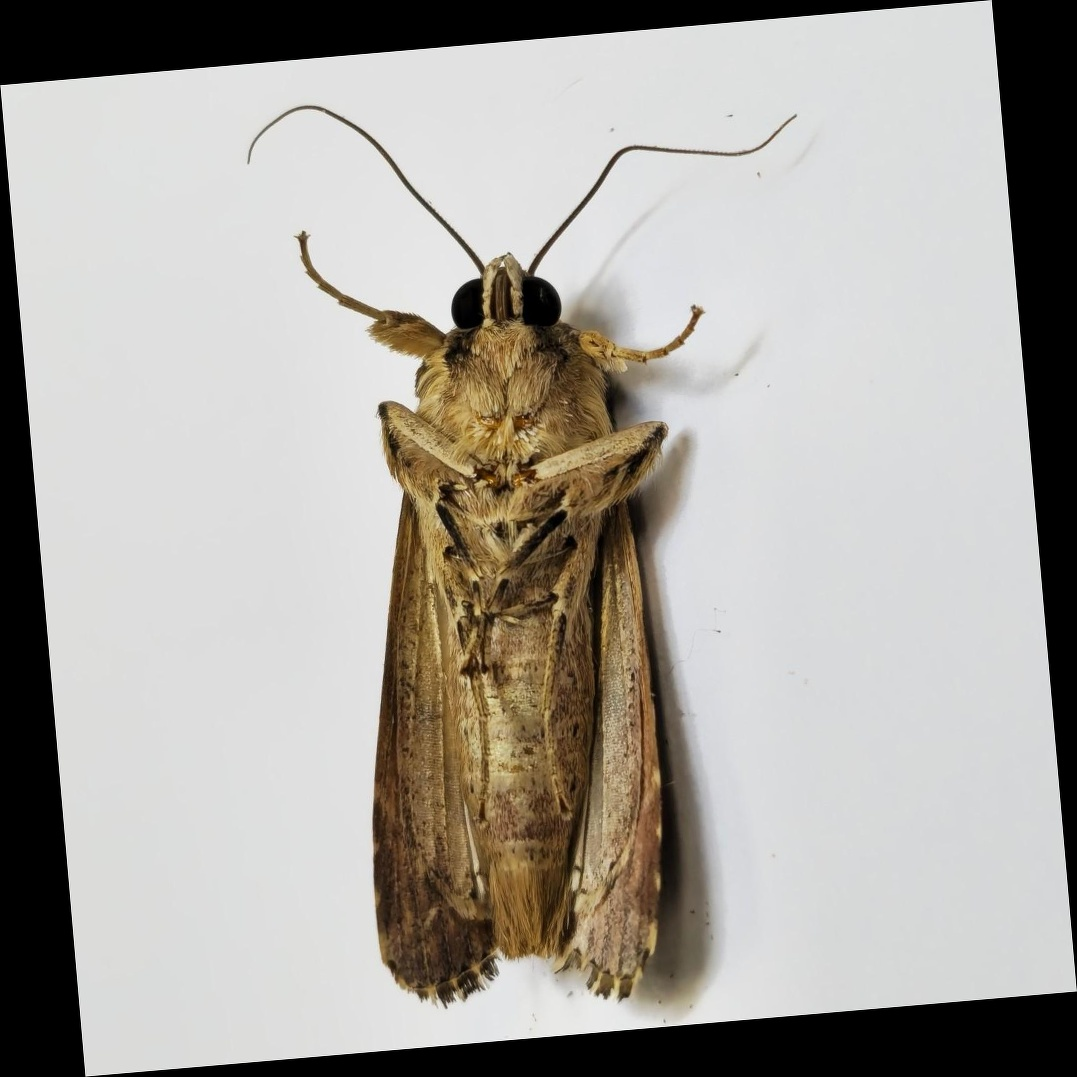Spodoptera litura: (281, 86, 831, 1005)
